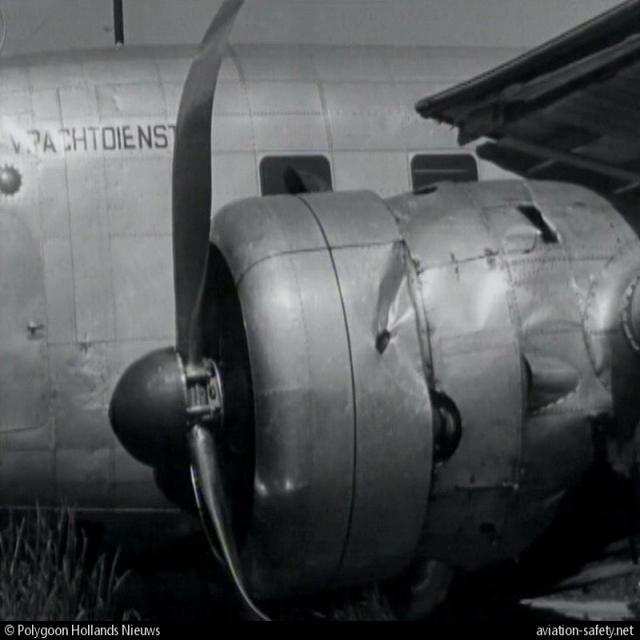dent: (368, 260, 417, 338)
